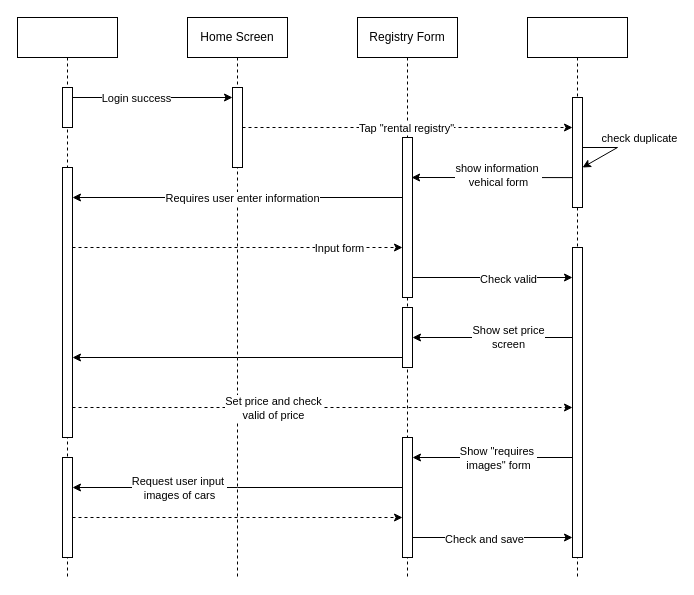
Image size: 694x595. Some labels were removed from this diagram. Each missing label, with the box of its shape:
System: (526, 16, 628, 578)
User: (16, 16, 118, 578)
